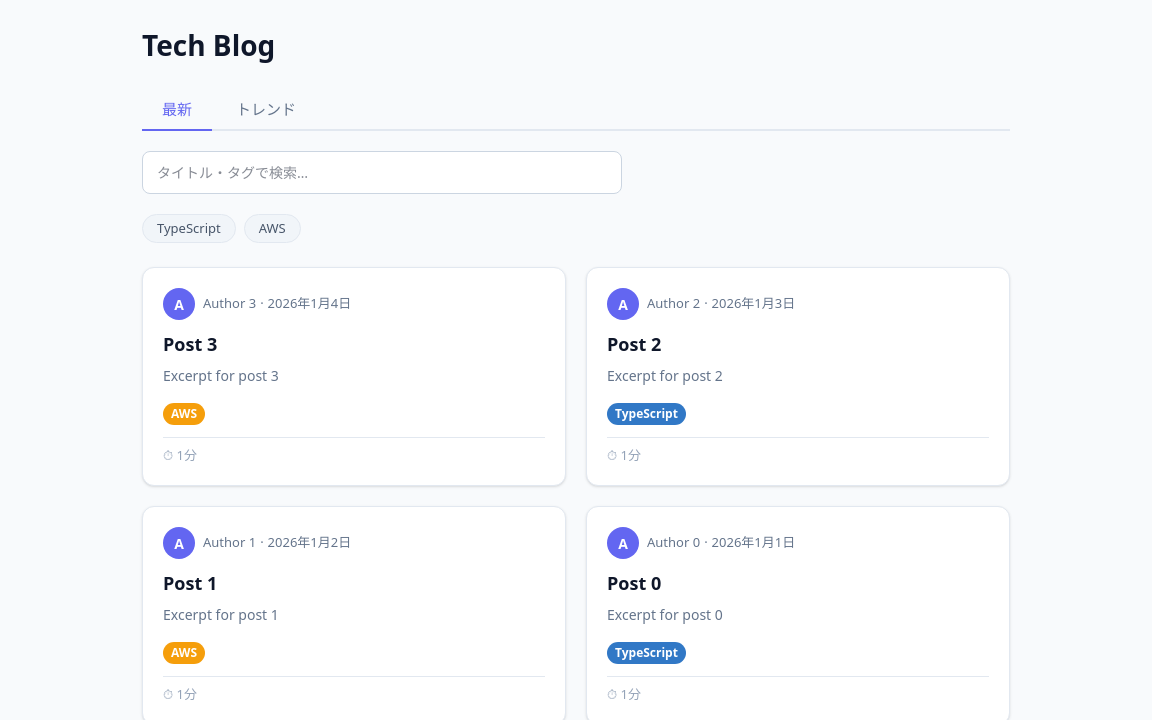
Scenario: TopPage › タグフィルターチップ › タグチップをクリックするとそのタグを持つ記事のみ表示される
Click the button with test id "tag-chip-TypeScript".
click(189, 228)  # box [142, 214, 236, 243]
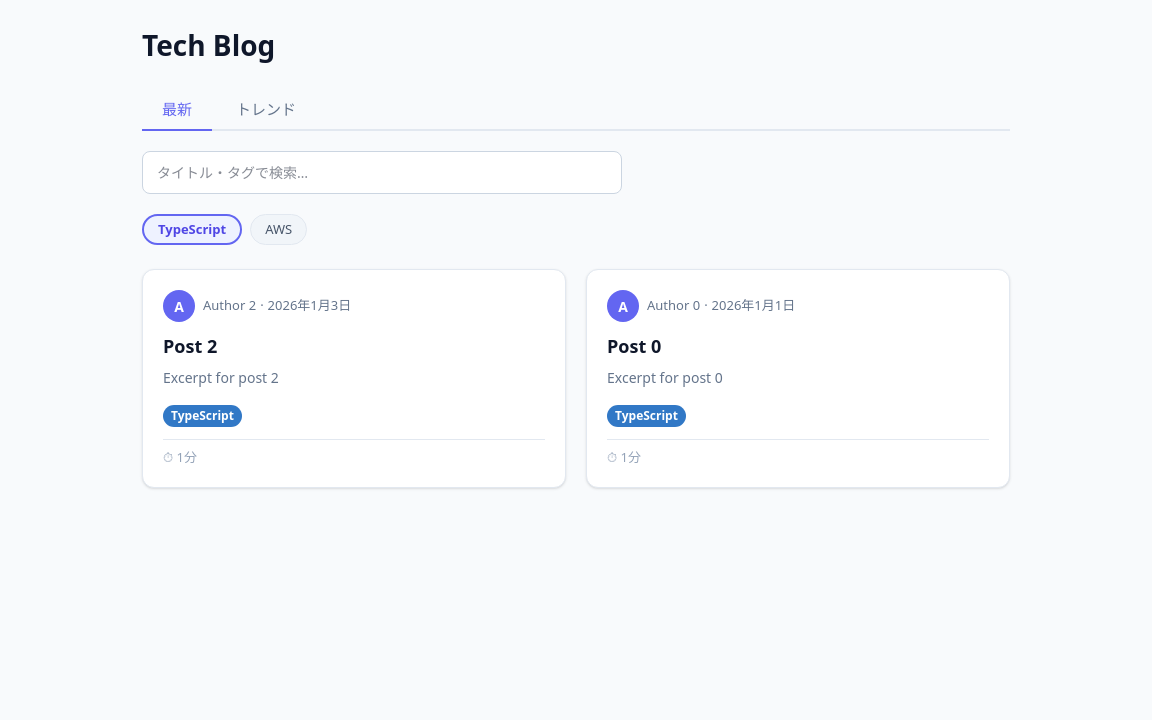
Now the number of links with test id "blog-post-card" is 2, box [142, 269, 566, 488]; [586, 269, 1010, 488]
